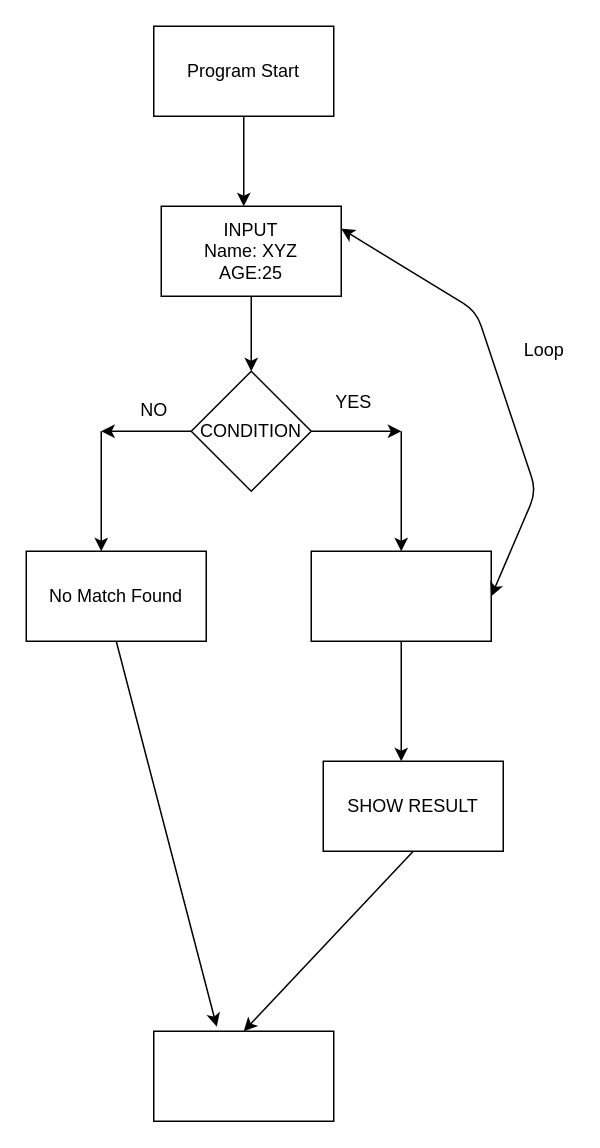
Image size: 600x1148. Some labels were removed from this diagram. Here are the shapes that lost their labels. From the top down, the box of each, then its label:
(310, 550, 491, 641): COUNT NUMBER OF MATCH
(152, 1030, 334, 1121): EXIT
